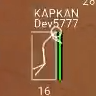hacks_1: (30, 8, 80, 95)
